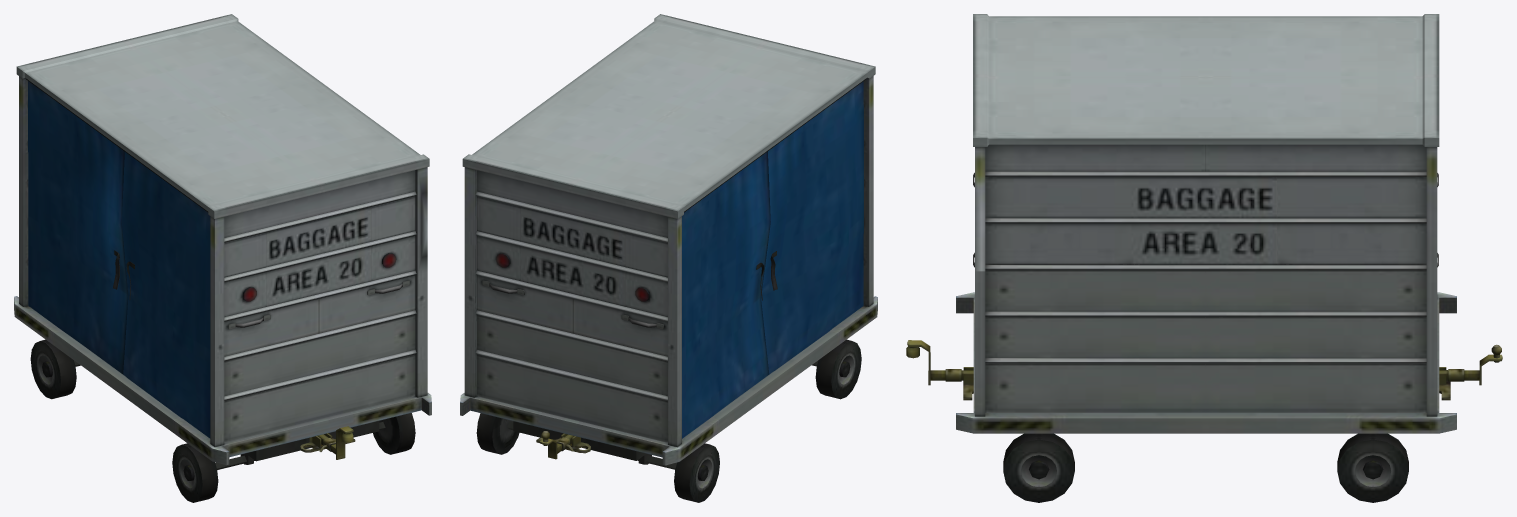
The model's file is baggage-cart.glb.
3 renders of one model, left to right at view 1: azimuth 30°, elevation 25°; view 2: azimuth 150°, elevation 25°; view 3: azimuth 270°, elevation 25°, orthographic. The views are drawn at different scales.
Parts seen in each view (by area): view 1: Object_2; view 2: Object_2; view 3: Object_2.
Boxes of the visible parts, x1,y1,x2,y2 form: Object_2: [14, 14, 431, 502]; Object_2: [460, 14, 877, 502]; Object_2: [906, 14, 1502, 502].
Bounding box in the file's own units: 1.3 × 1.76 × 2.6.
1 material, 1 textured.
